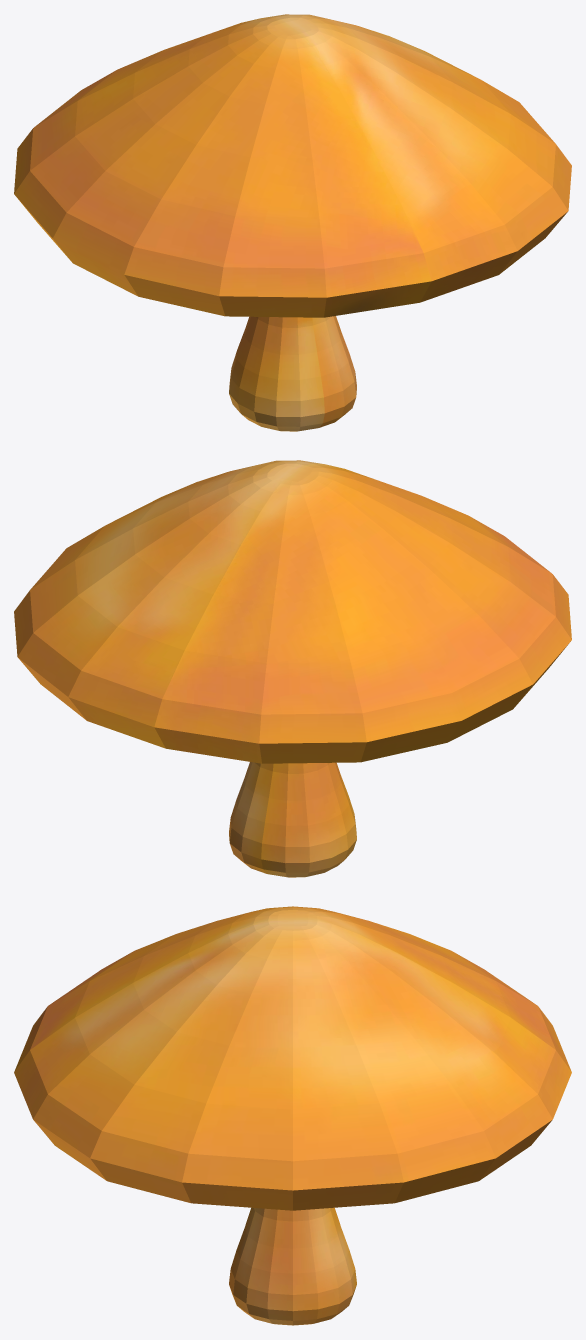
The model's file is hongo 3.glb.
The picture shows the model from 3 angles, top to bottom: view 1: azimuth 30°, elevation 25°; view 2: azimuth 150°, elevation 25°; view 3: azimuth 270°, elevation 25°; orthographic projection.
Parts seen in each view (by area): view 1: hongo_3; view 2: hongo_3; view 3: hongo_3.
Boxes of the visible parts, <box> form: hongo_3: <box>14,14,571,431</box>; hongo_3: <box>14,460,571,877</box>; hongo_3: <box>14,906,571,1325</box>.
Size of what is drawn, in the model's own units: 3.91 by 3.05 by 3.91.
Materials: 1 (1 with a texture image).
